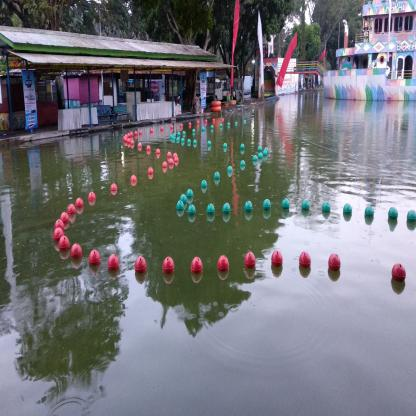green_buoy: (388, 206, 398, 220), (364, 205, 375, 217), (262, 198, 272, 211), (406, 209, 415, 223), (321, 201, 331, 213), (301, 199, 310, 211), (244, 200, 253, 212), (222, 202, 231, 214), (206, 203, 215, 215), (187, 204, 196, 216), (281, 198, 290, 209), (343, 203, 352, 214), (176, 200, 184, 211), (186, 189, 194, 198), (180, 194, 187, 204), (200, 180, 208, 188), (214, 171, 221, 180), (227, 166, 233, 174), (222, 142, 228, 148), (252, 155, 258, 161), (207, 140, 212, 146), (240, 143, 245, 149), (258, 152, 263, 158), (240, 160, 245, 166), (193, 139, 197, 145), (258, 146, 262, 152), (264, 147, 268, 153), (262, 150, 268, 154), (182, 130, 186, 135), (187, 139, 191, 144), (210, 125, 214, 129), (176, 132, 180, 136), (180, 138, 184, 142), (192, 128, 195, 133), (170, 134, 173, 139), (227, 122, 230, 126), (219, 124, 223, 127), (173, 133, 176, 137), (172, 136, 175, 140), (176, 137, 179, 141), (202, 127, 204, 131), (235, 122, 238, 124), (244, 120, 246, 122)
red_buoy: (392, 262, 406, 282), (327, 253, 341, 272), (270, 249, 284, 267), (216, 254, 230, 272), (162, 256, 175, 274), (135, 255, 147, 274), (88, 249, 101, 266), (107, 254, 120, 271), (191, 256, 203, 274), (70, 243, 82, 260), (299, 251, 311, 268), (244, 251, 256, 268), (58, 236, 70, 251), (53, 227, 64, 241), (54, 219, 64, 231), (60, 211, 69, 223), (67, 204, 76, 214), (88, 190, 96, 200), (110, 182, 118, 191), (75, 198, 84, 206), (147, 166, 154, 174), (130, 174, 137, 182), (172, 152, 178, 159), (167, 151, 172, 158), (169, 158, 174, 165), (162, 161, 167, 168), (146, 145, 151, 151), (174, 156, 179, 162), (137, 142, 142, 147), (156, 148, 160, 154), (134, 130, 138, 135), (130, 140, 134, 145), (204, 119, 208, 123), (196, 120, 200, 124), (160, 126, 164, 130), (129, 132, 133, 136), (124, 134, 128, 138), (124, 137, 128, 141), (127, 138, 130, 143), (188, 122, 192, 125), (150, 128, 153, 132), (139, 130, 142, 134), (127, 133, 130, 137), (123, 136, 126, 140), (180, 124, 183, 127), (170, 125, 173, 128), (213, 118, 215, 122), (222, 118, 224, 120)
